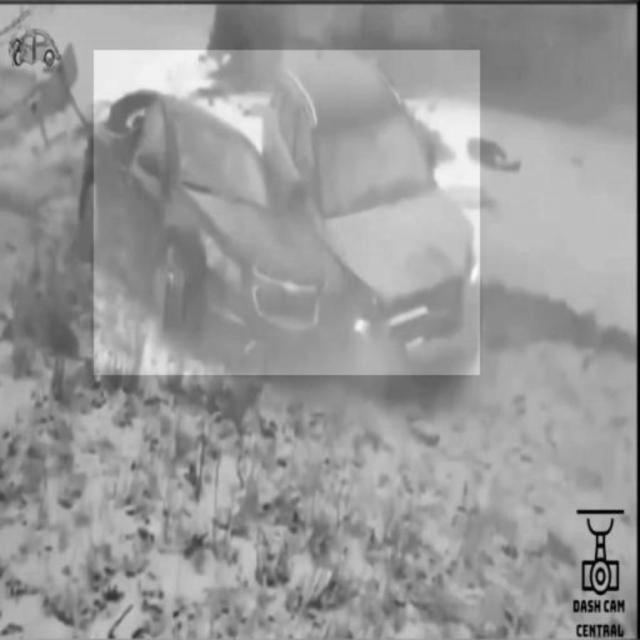accident: (94, 50, 480, 375)
